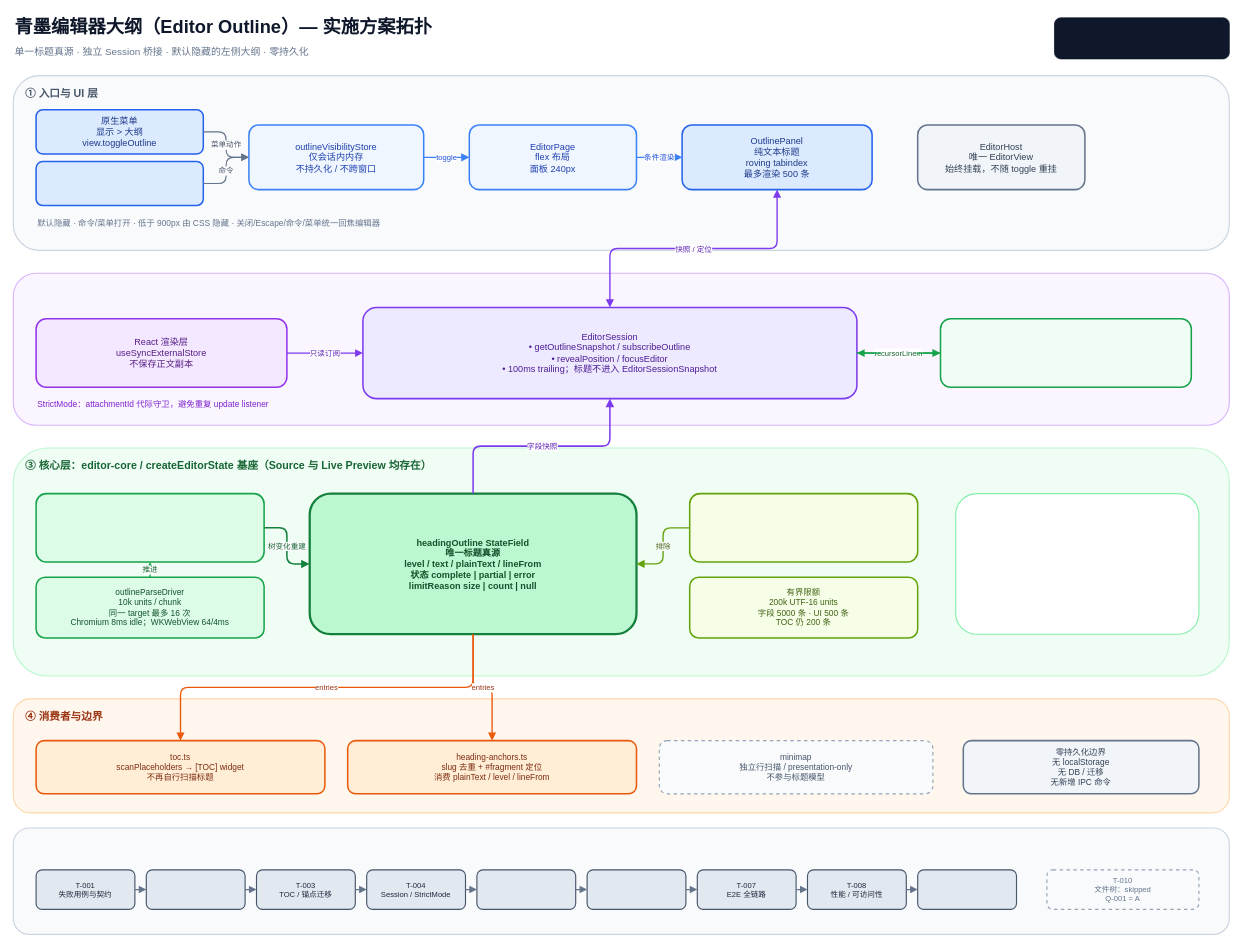
Some shapes in this 1243 by 948 pixel diagram are drawn without their labels. Here are the shapes that lost their labels. From the top down, the box of each, then its label:
(1054, 17, 1229, 59): 设计冻结 v1.7 Q-001 ~ Q-007 = A
(35, 160, 204, 206): 命令面板 view.toggleOutline
(12, 272, 1230, 425): ② 桥接层：React ↔ CM6
(939, 318, 1192, 388): CM6 EditorView selection + scrollIntoView y=start · margin=10
(35, 492, 264, 562): Lezer syntaxTree forceParsing 推进
(689, 492, 918, 562): 排除规则 details-range.ts / frontmatter / fence 仅取 Document 顶层 Heading
(955, 493, 1199, 634): 单一真源约束 TOC / 锚点 / 侧栏不得再遍历标题 锚点使用完整字段（≤5000） 面板只截断渲染，不截断锚点
(145, 869, 245, 910): T-002 字段 / 驱动 / limits
(476, 869, 576, 910): T-005 命令 / 菜单 / i18n
(12, 827, 1230, 935): ⑤ 实施依赖：先契约后实现，再做全量验证与回滚
(586, 869, 686, 910): T-006 OutlinePanel / 布局
(917, 869, 1017, 910): T-009 全量 / 回滚 / 收尾
